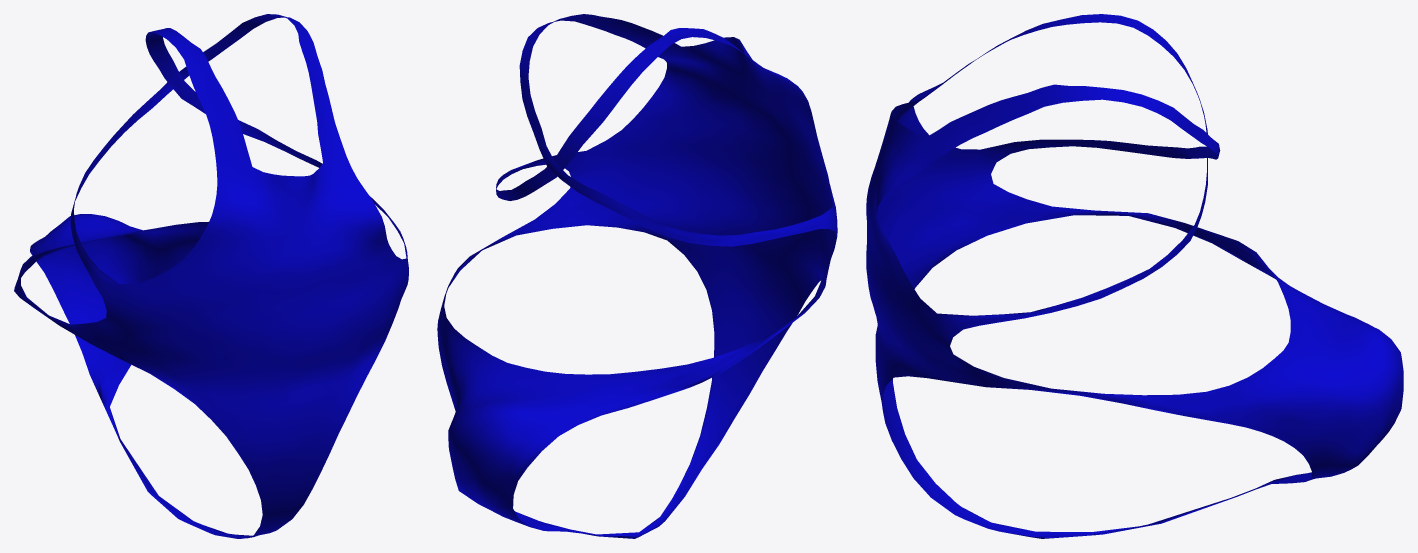
File: ours_Swimsuit.obj
3 views of the same model, side by side, from view 1: azimuth 30°, elevation 25°; view 2: azimuth 150°, elevation 25°; view 3: azimuth 270°, elevation 25° (orthographic). The views are drawn at different scales.
Parts seen in each view (by area): view 1: ours_Swimsuit; view 2: ours_Swimsuit; view 3: ours_Swimsuit.
Part boxes in pixels (x1,y1,x2,y2): ours_Swimsuit: (14, 14, 408, 538); ours_Swimsuit: (437, 14, 837, 538); ours_Swimsuit: (866, 14, 1403, 538).
Size of the model in its own units: 0.3587 by 0.512 by 0.485.
